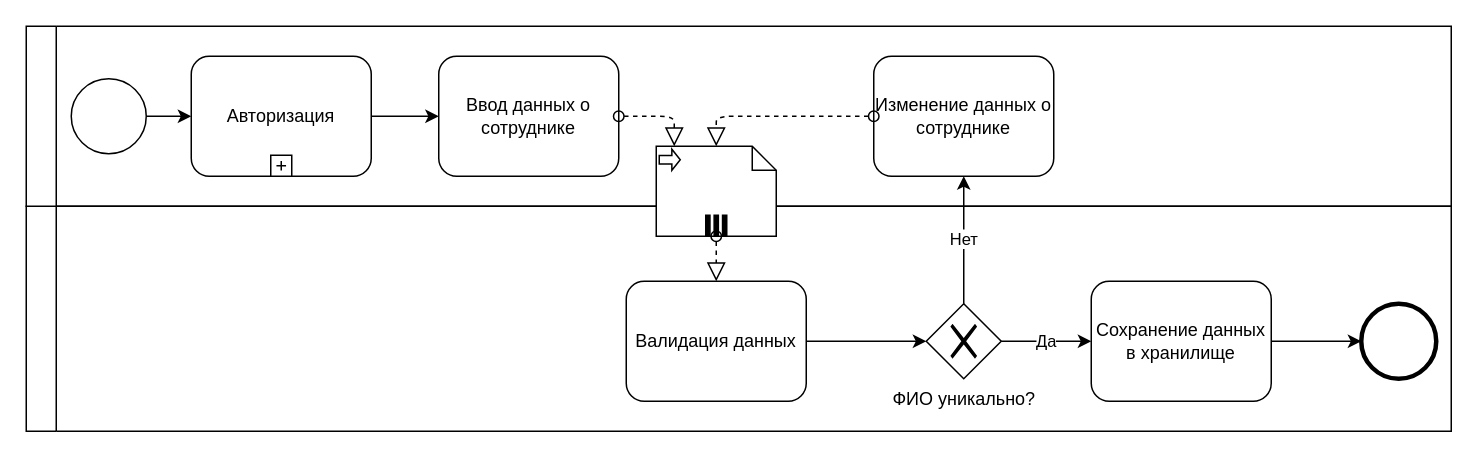
Image size: 1478x458. Some labels were removed from this diagram. Each missing label, with the box of its shape:
Данные сотрудника: (655, 145, 776, 236)
Пользователь: (25, 25, 1451, 206)
Система: (25, 205, 1451, 431)
